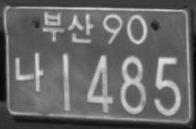0: (126, 14, 147, 45)
1: (53, 53, 81, 111)
4: (86, 54, 113, 113)
5: (153, 56, 181, 116)
8: (119, 54, 146, 114)
9: (102, 13, 123, 44)
나: (14, 51, 43, 92)
부산_O: (43, 11, 94, 44)
